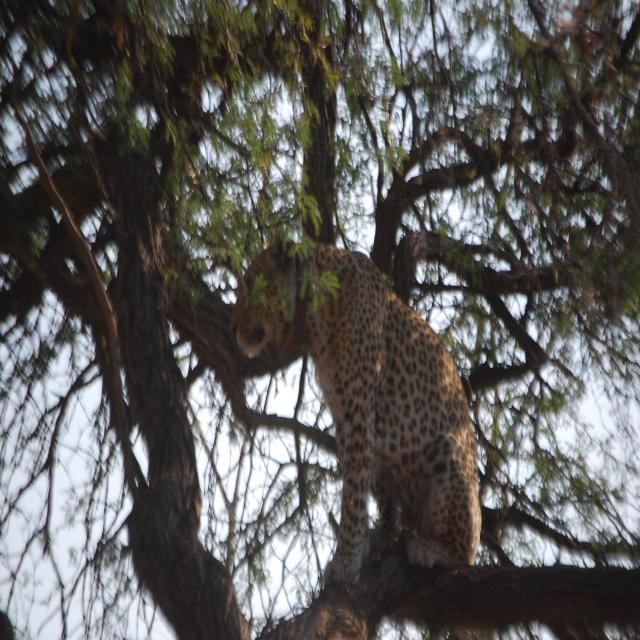Leopard: (231, 227, 479, 603)
